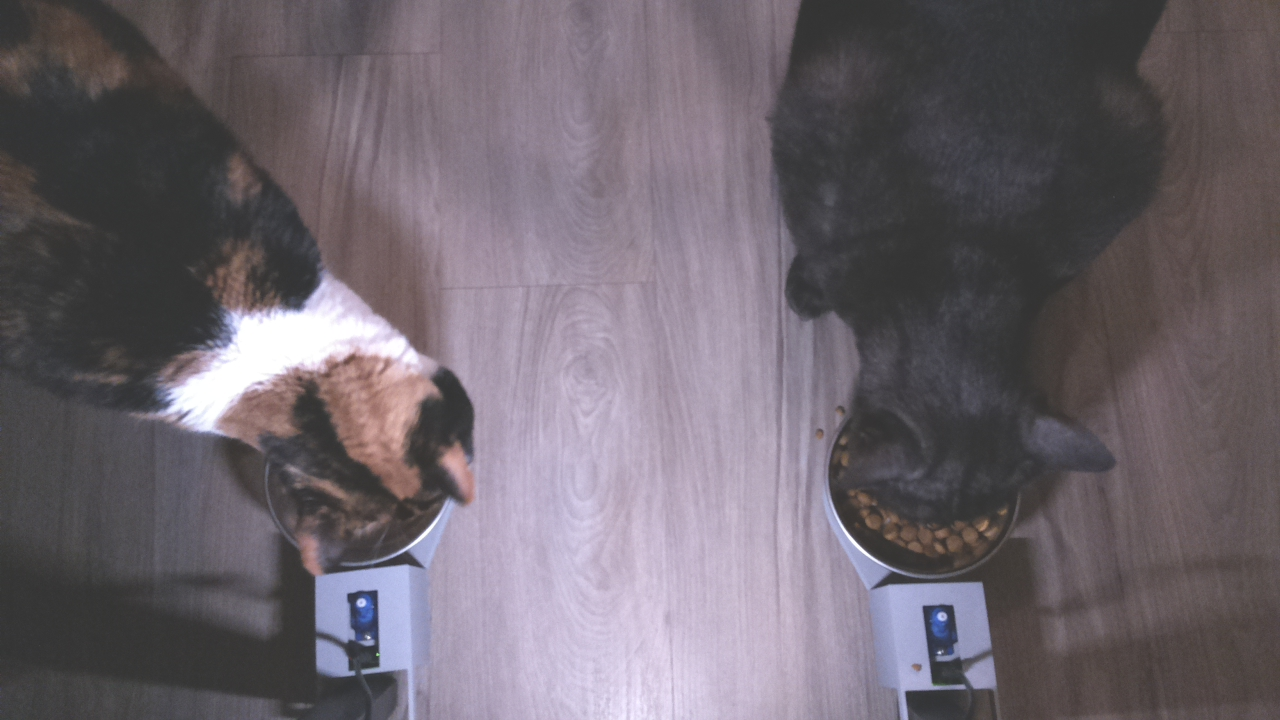bella_eating: (207, 276, 484, 576)
saki_eating: (814, 269, 1127, 593)
